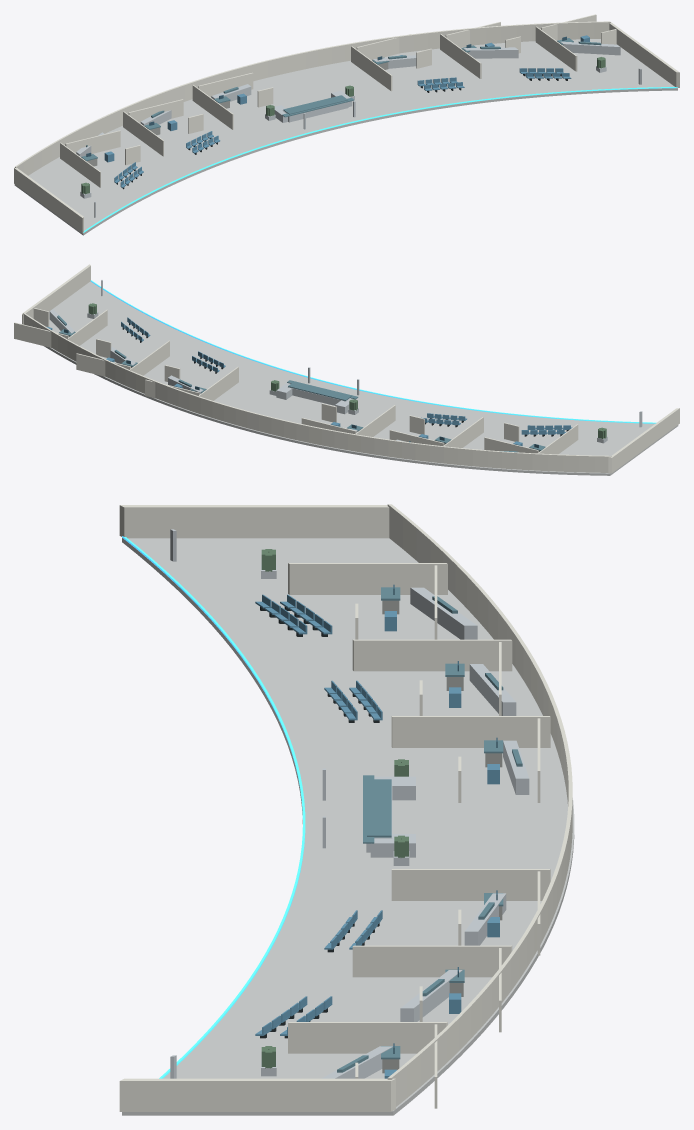
File: floor_f1.glb
3 renders of one model, top to bottom at view 1: azimuth 30°, elevation 25°; view 2: azimuth 150°, elevation 25°; view 3: azimuth 270°, elevation 25°, orthographic. The views are drawn at different scales.
Visible parts, largest first — view 1: floor_f1_floorStone, floor_f1_floorWall, FloorDetail_f1_floorWall, floor_f1_ivory, floor_f1_floorSeat, floor_f1_floorEdge, floor_f1_glassLight, FloorDetail_f1_glassLight, FloorDetail_f1_ivory, FloorDetail_f1_floorSeat, FloorDetail_f1_leafLight; view 2: floor_f1_floorStone, floor_f1_floorWall, FloorDetail_f1_floorWall, floor_f1_floorSeat, floor_f1_ivory, floor_f1_floorEdge, floor_f1_glassLight, FloorDetail_f1_ivory, FloorDetail_f1_glassLight, FloorDetail_f1_leafLight; view 3: floor_f1_floorStone, floor_f1_floorWall, floor_f1_ivory, floor_f1_floorSeat, FloorDetail_f1_floorWall, floor_f1_glassLight, floor_f1_floorEdge, FloorDetail_f1_ivory, FloorDetail_f1_glassLight, FloorDetail_f1_floorSeat, FloorDetail_f1_leafLight, FloorDetail_f1_stone.
Part boxes in pixels (x1=…): floor_f1_floorStone: x1=14, y1=39, x2=677, y2=235; floor_f1_floorWall: x1=14, y1=21, x2=679, y2=233; FloorDetail_f1_floorWall: x1=65, y1=14, x2=616, y2=165; floor_f1_ivory: x1=76, y1=41, x2=641, y2=217; floor_f1_floorSeat: x1=114, y1=68, x2=571, y2=188; floor_f1_floorEdge: x1=83, y1=87, x2=677, y2=232; floor_f1_glassLight: x1=86, y1=41, x2=601, y2=147; FloorDetail_f1_glassLight: x1=81, y1=38, x2=573, y2=161; FloorDetail_f1_ivory: x1=80, y1=65, x2=606, y2=198; FloorDetail_f1_floorSeat: x1=104, y1=35, x2=589, y2=162; FloorDetail_f1_leafLight: x1=81, y1=57, x2=605, y2=194; floor_f1_floorStone: x1=44, y1=281, x2=678, y2=475; floor_f1_floorWall: x1=22, y1=264, x2=679, y2=473; FloorDetail_f1_floorWall: x1=14, y1=308, x2=538, y2=453; floor_f1_floorSeat: x1=121, y1=317, x2=572, y2=434; floor_f1_ivory: x1=49, y1=280, x2=642, y2=441; floor_f1_floorEdge: x1=90, y1=280, x2=656, y2=423; floor_f1_glassLight: x1=57, y1=315, x2=517, y2=452; FloorDetail_f1_ivory: x1=87, y1=312, x2=607, y2=443; FloorDetail_f1_glassLight: x1=59, y1=329, x2=545, y2=450; FloorDetail_f1_leafLight: x1=88, y1=303, x2=606, y2=438; floor_f1_floorStone: x1=122, y1=537, x2=574, y2=1115; floor_f1_floorWall: x1=119, y1=504, x2=572, y2=1111; floor_f1_ivory: x1=170, y1=529, x2=529, y2=1078; floor_f1_floorSeat: x1=255, y1=594, x2=382, y2=1035; FloorDetail_f1_floorWall: x1=355, y1=565, x2=540, y2=1108; floor_f1_glassLight: x1=337, y1=596, x2=522, y2=1072; floor_f1_floorEdge: x1=122, y1=536, x2=305, y2=1078; FloorDetail_f1_ivory: x1=261, y1=564, x2=415, y2=1076; FloorDetail_f1_glassLight: x1=363, y1=587, x2=503, y2=1059; FloorDetail_f1_floorSeat: x1=384, y1=611, x2=499, y2=1078; FloorDetail_f1_leafLight: x1=261, y1=549, x2=408, y2=1068; FloorDetail_f1_stone: x1=382, y1=600, x2=502, y2=1073.
Bounding box in the file's own units: 120 × 3.7 × 40.21.
